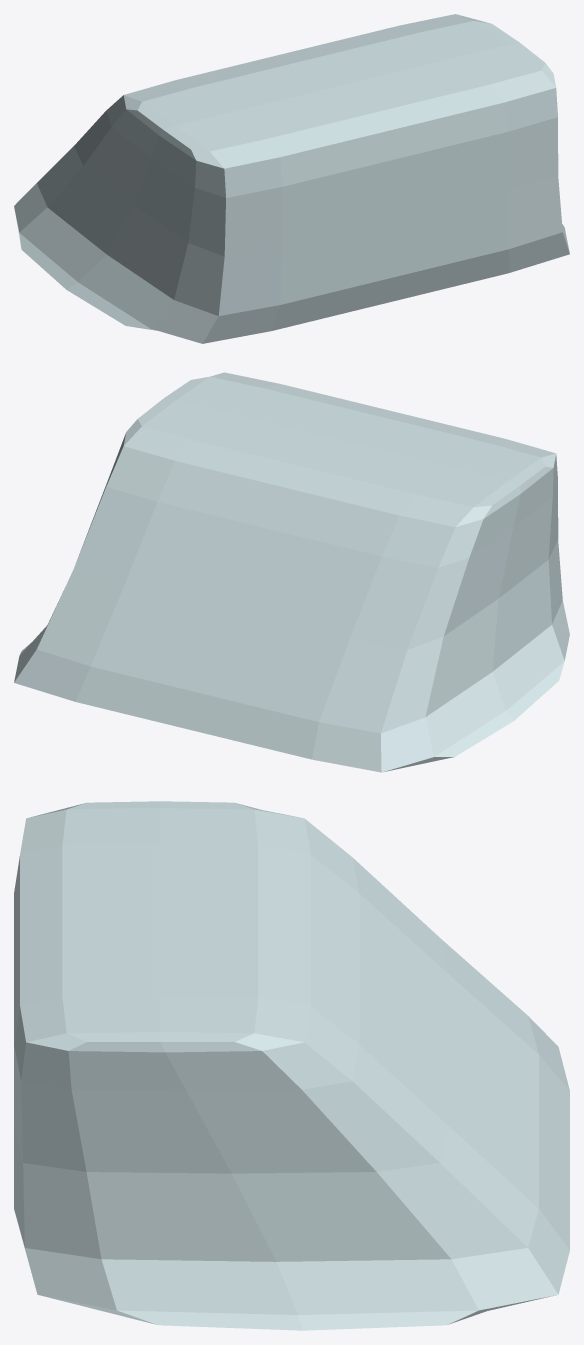
Rendered from SnowSlide.fbx.
The picture shows the model from 3 angles, top to bottom: view 1: azimuth 30°, elevation 25°; view 2: azimuth 150°, elevation 25°; view 3: azimuth 270°, elevation 25°; orthographic projection. The views are drawn at different scales.
Parts seen in each view (by area): view 1: SnowSlide; view 2: SnowSlide; view 3: SnowSlide.
Boxes of the visible parts, <box> form: SnowSlide: <box>14,14,569,343</box>; SnowSlide: <box>14,372,569,772</box>; SnowSlide: <box>14,801,569,1330</box>.
Size of what is drawn, in the model's own units: 12.3 by 9.57 by 4.98.
